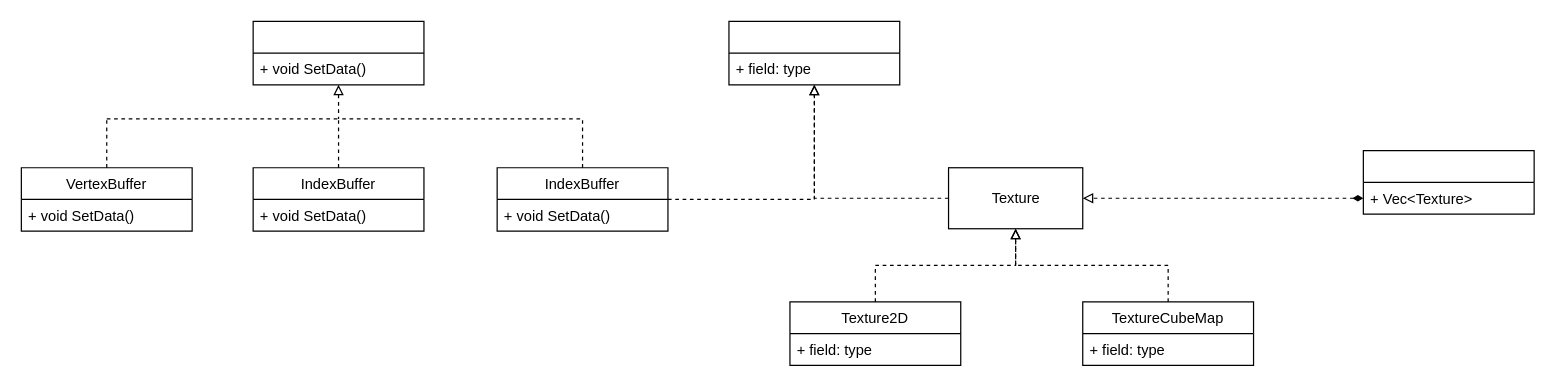
Some shapes in this 1556 by 390 pixel diagram are drawn without their labels. Here are the shapes that lost their labels. From the top down, the box of each, then its label:
(252, 20, 424, 85): IBuffer
(728, 20, 900, 85): IDescriptor
(1362, 149, 1534, 214): SwapChain
